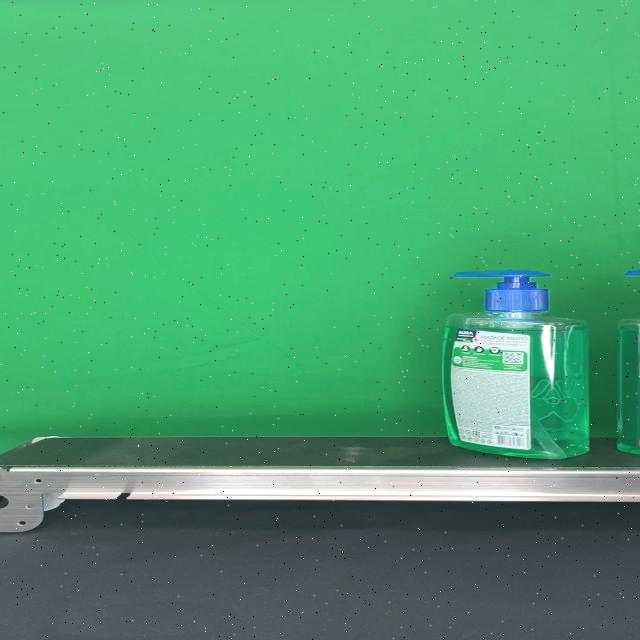Bottle: (440, 270, 590, 460)
Cap: (455, 270, 551, 312)
